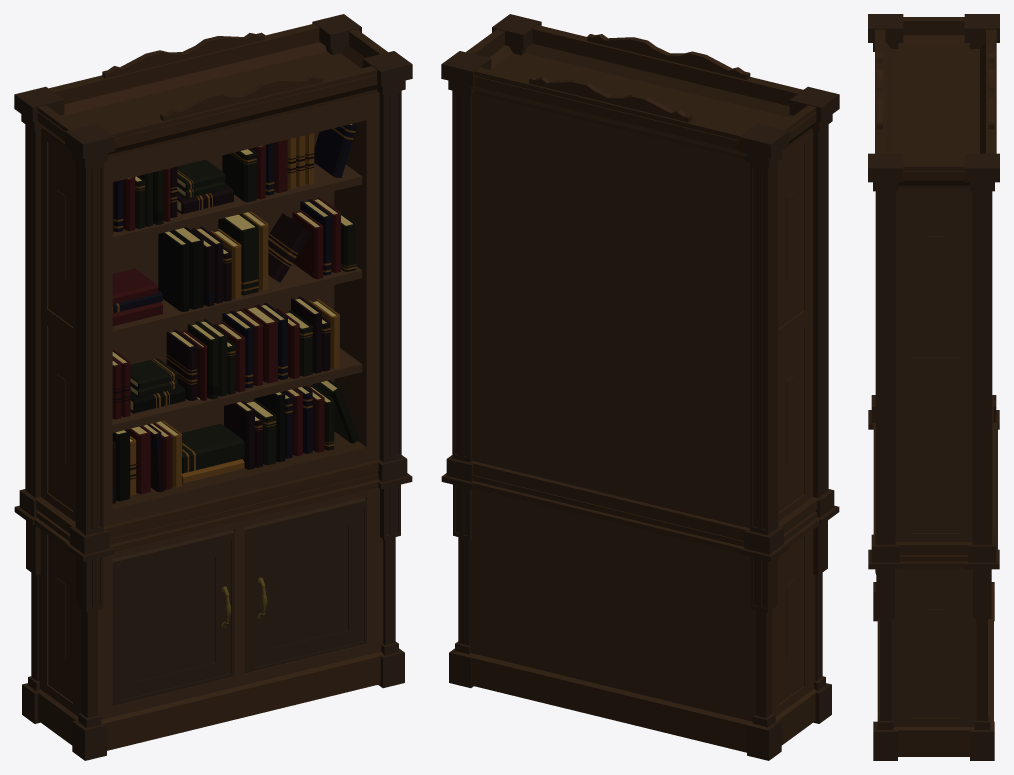
Rendered from Bookcase_Books.obj.
The picture shows the model from 3 angles, left to right: view 1: azimuth 30°, elevation 25°; view 2: azimuth 150°, elevation 25°; view 3: azimuth 270°, elevation 25°; orthographic projection. The views are drawn at different scales.
Parts seen in each view (by area): view 1: BookCase_Single_Cube, BookCase_LeftDoor_Cube.001, BookCase_RightDoor_Cube.005; view 2: BookCase_Single_Cube; view 3: BookCase_Single_Cube.
Boxes of the visible parts, box(x1,y1,x2,y2) form: BookCase_Single_Cube: box(14, 14, 412, 760); BookCase_LeftDoor_Cube.001: box(112, 529, 234, 705); BookCase_RightDoor_Cube.005: box(244, 497, 366, 673); BookCase_Single_Cube: box(441, 14, 839, 760); BookCase_Single_Cube: box(868, 14, 999, 760).
Bounding box in the file's own units: 1.84 × 3.37 × 0.6644.
